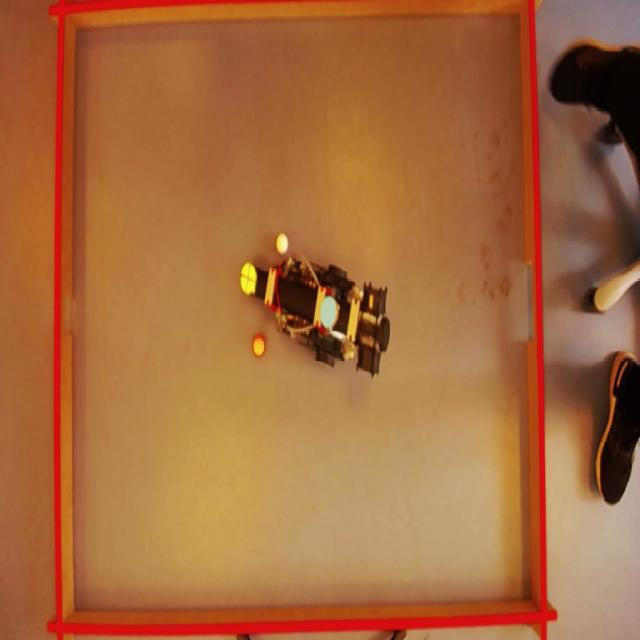orange: (252, 338, 266, 357)
robot: (236, 250, 400, 376)
robot-front: (238, 260, 258, 296)
robot-rear: (318, 289, 342, 332)
white: (273, 232, 289, 254)
